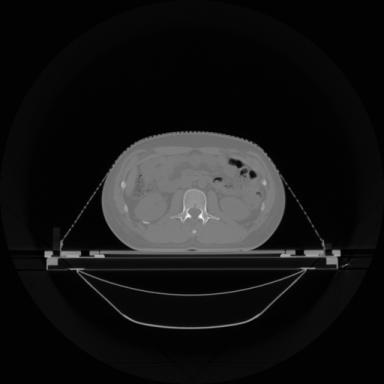body: (102, 133, 285, 250)
cord: (171, 190, 219, 224)
